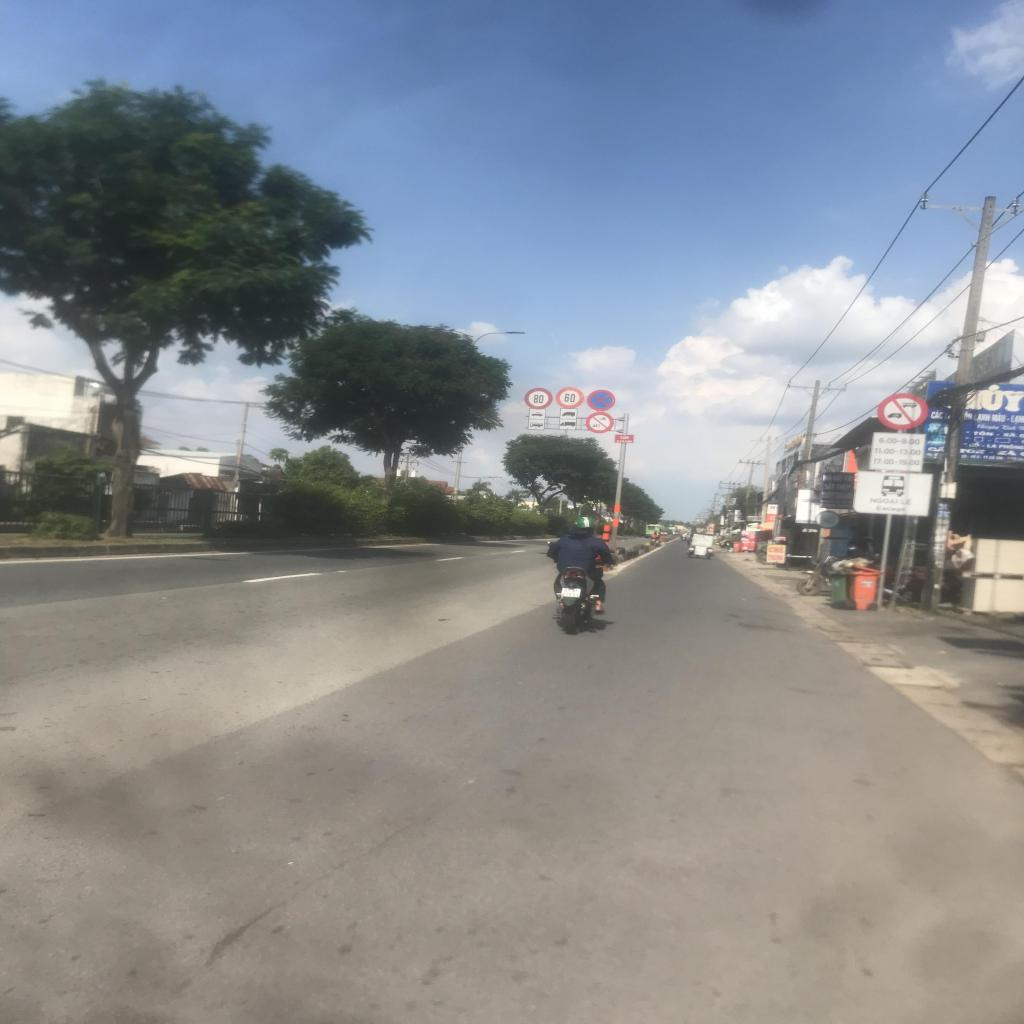cam_dung_xe_va_do_xe: (586, 390, 616, 411)
cam_o_to_tai_va_xe_khach: (877, 393, 928, 430)
cam_xe_2_banh_va_xe_3_banh_co_dong_co: (586, 412, 614, 433)
khac: (852, 471, 932, 516), (870, 433, 924, 471), (560, 408, 578, 418), (528, 419, 544, 430), (559, 420, 576, 430), (530, 410, 545, 418)
toc_do_toi_da_60: (556, 387, 583, 409)
toc_do_toi_da_80: (524, 388, 552, 409)
